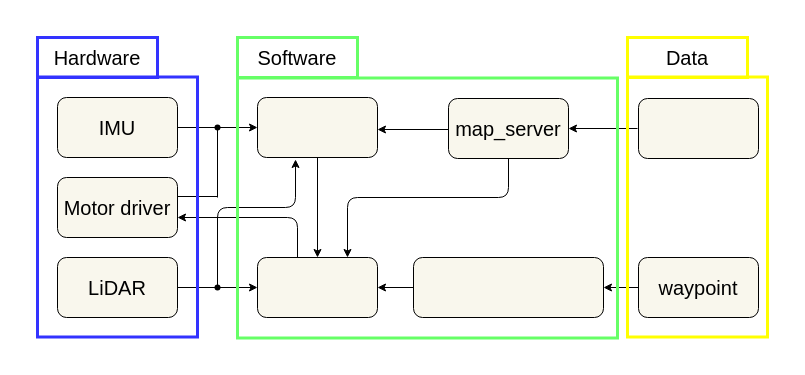
The diagram is 805 pixels wide and 375 high, and some of its shapes have lost their labels. Each missing label, with the centre of its shape:
"map" goes at point (698, 128).
"mcl" goes at point (317, 127).
"move_base" goes at point (317, 287).
"waypoint_navigation" goes at point (508, 287).
